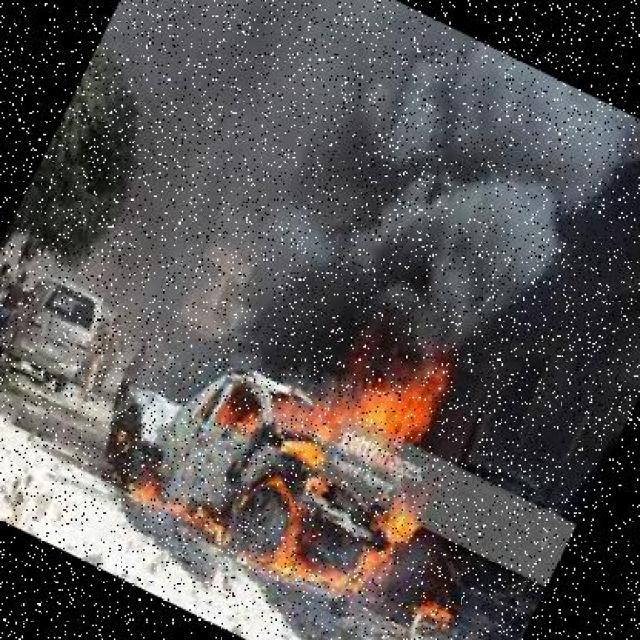fire: (148, 278, 488, 628)
